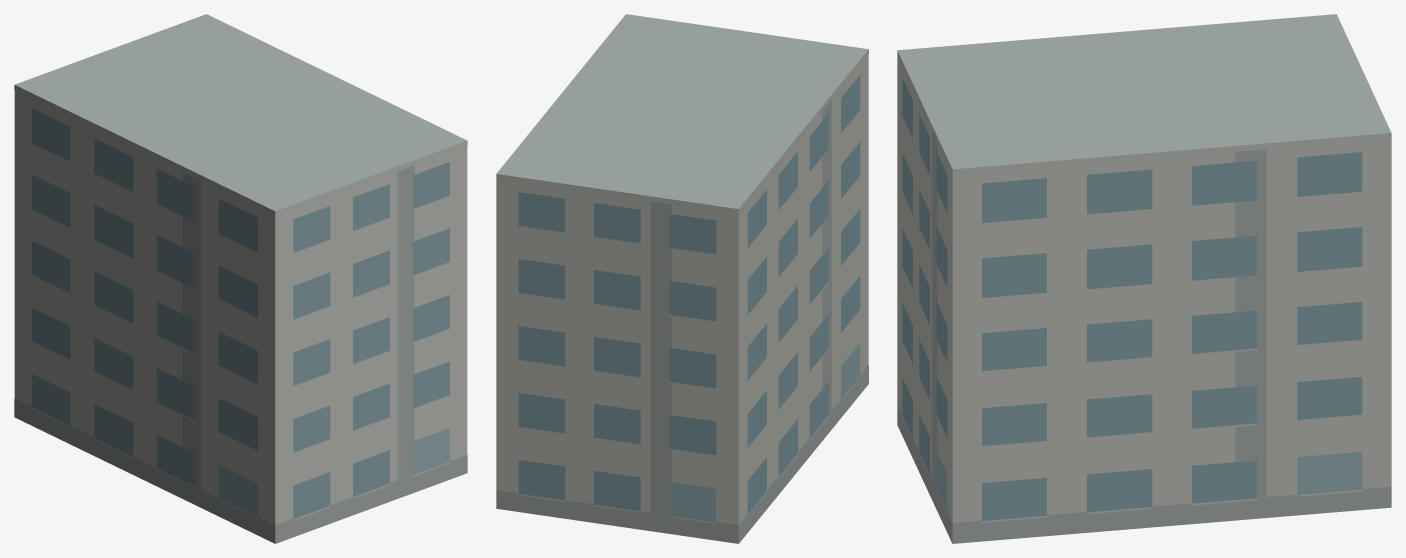
The model's file is residential-dd84ad55-31b2-430c-acde-30e897cd5b4a.glb.
3 views of the same model, side by side, from view 1: azimuth 30°, elevation 25°; view 2: azimuth 150°, elevation 25°; view 3: azimuth 270°, elevation 25° (orthographic). The views are drawn at different scales.
Visible parts, largest first — view 1: residential-dd84ad55-31b2-430c-acde-30e897cd5b4a.tmp; view 2: residential-dd84ad55-31b2-430c-acde-30e897cd5b4a.tmp; view 3: residential-dd84ad55-31b2-430c-acde-30e897cd5b4a.tmp.
Part boxes in pixels (box(x1,y1,x2,y2)): residential-dd84ad55-31b2-430c-acde-30e897cd5b4a.tmp: box(14, 14, 467, 543); residential-dd84ad55-31b2-430c-acde-30e897cd5b4a.tmp: box(496, 14, 868, 543); residential-dd84ad55-31b2-430c-acde-30e897cd5b4a.tmp: box(897, 14, 1391, 543).
Bounding box in the file's own units: 13.57 × 15.25 × 18.25.
